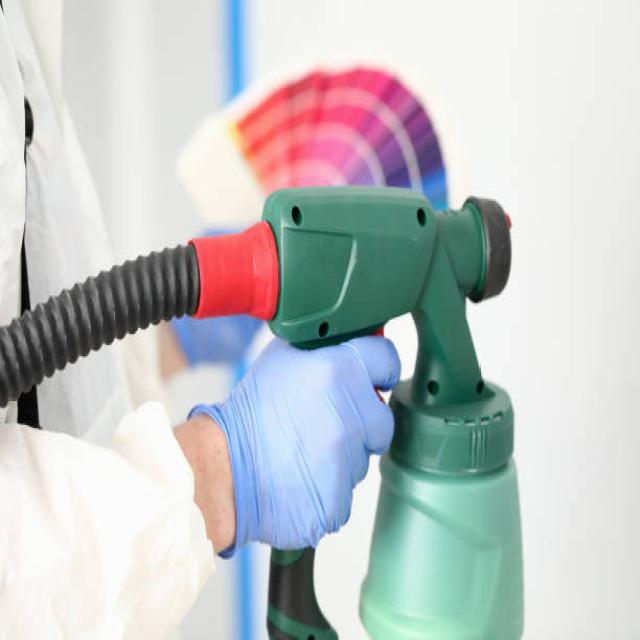gloves: (187, 329, 403, 565)
